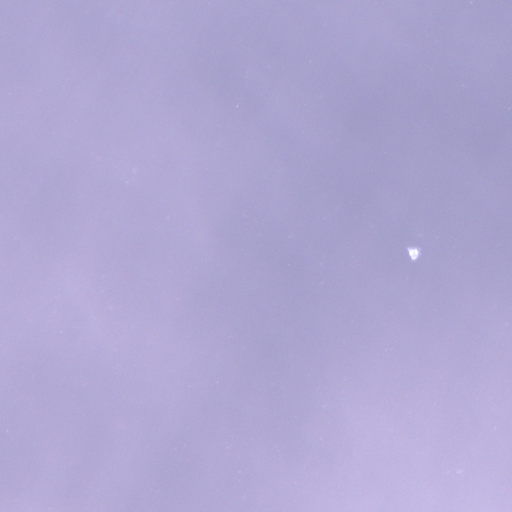Iceberg: (408, 248, 418, 259)
